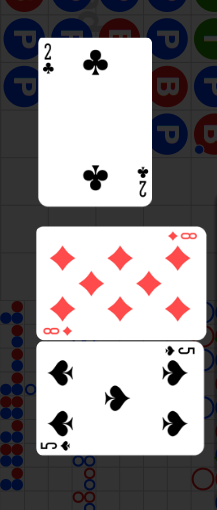2C: (42, 42, 56, 77)
5S: (40, 439, 72, 452)
8D: (166, 230, 198, 242)
